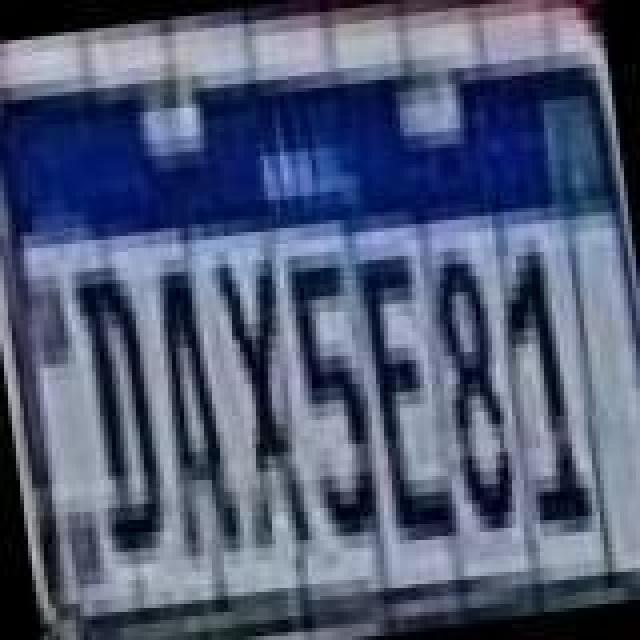1: (490, 240, 598, 536)
5: (284, 248, 388, 544)
8: (424, 246, 520, 538)
A: (136, 264, 248, 568)
D: (68, 266, 172, 558)
E: (354, 248, 462, 544)
X: (210, 252, 318, 556)
